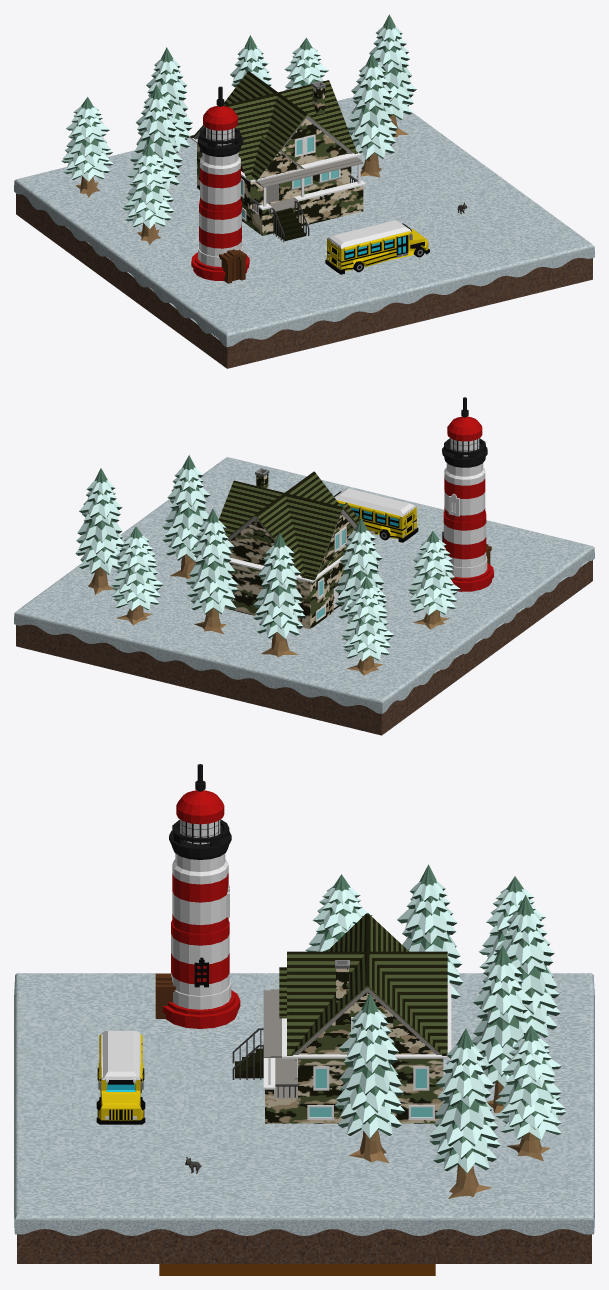
3 renders of one model, top to bottom at view 1: azimuth 30°, elevation 25°; view 2: azimuth 150°, elevation 25°; view 3: azimuth 270°, elevation 25°, orthographic. The views are drawn at different scales.
Visible parts, largest first — view 1: Cube.003, Cube.002, OBJRANDOM_LIGHTHOUSE, VEHICLES_SCHOOL_BUS; view 2: Cube.003, Cube.002, OBJRANDOM_LIGHTHOUSE, VEHICLES_SCHOOL_BUS; view 3: Cube.003, Cube.002, OBJRANDOM_LIGHTHOUSE, VEHICLES_SCHOOL_BUS, UNDERGROUND_ART_PIECE_VAN_GOGH.
Boxes of the visible parts, left/top/right/bottom form: Cube.003: left=14, top=14, right=594, bottom=368; Cube.002: left=189, top=71, right=365, bottom=241; OBJRANDOM_LIGHTHOUSE: left=191, top=86, right=249, bottom=283; VEHICLES_SCHOOL_BUS: left=325, top=220, right=429, bottom=274; Cube.003: left=14, top=455, right=594, bottom=735; Cube.002: left=219, top=468, right=377, bottom=629; OBJRANDOM_LIGHTHOUSE: left=442, top=397, right=493, bottom=591; VEHICLES_SCHOOL_BUS: left=334, top=488, right=418, bottom=542; Cube.003: left=14, top=864, right=594, bottom=1263; Cube.002: left=232, top=913, right=451, bottom=1123; OBJRANDOM_LIGHTHOUSE: left=155, top=764, right=240, bottom=1028; VEHICLES_SCHOOL_BUS: left=96, top=1031, right=145, bottom=1124; UNDERGROUND_ART_PIECE_VAN_GOGH: left=159, top=1264, right=435, bottom=1275.
Bounding box in the file's own units: 4040 × 2476 × 4040.
39 materials, 6 textured.
